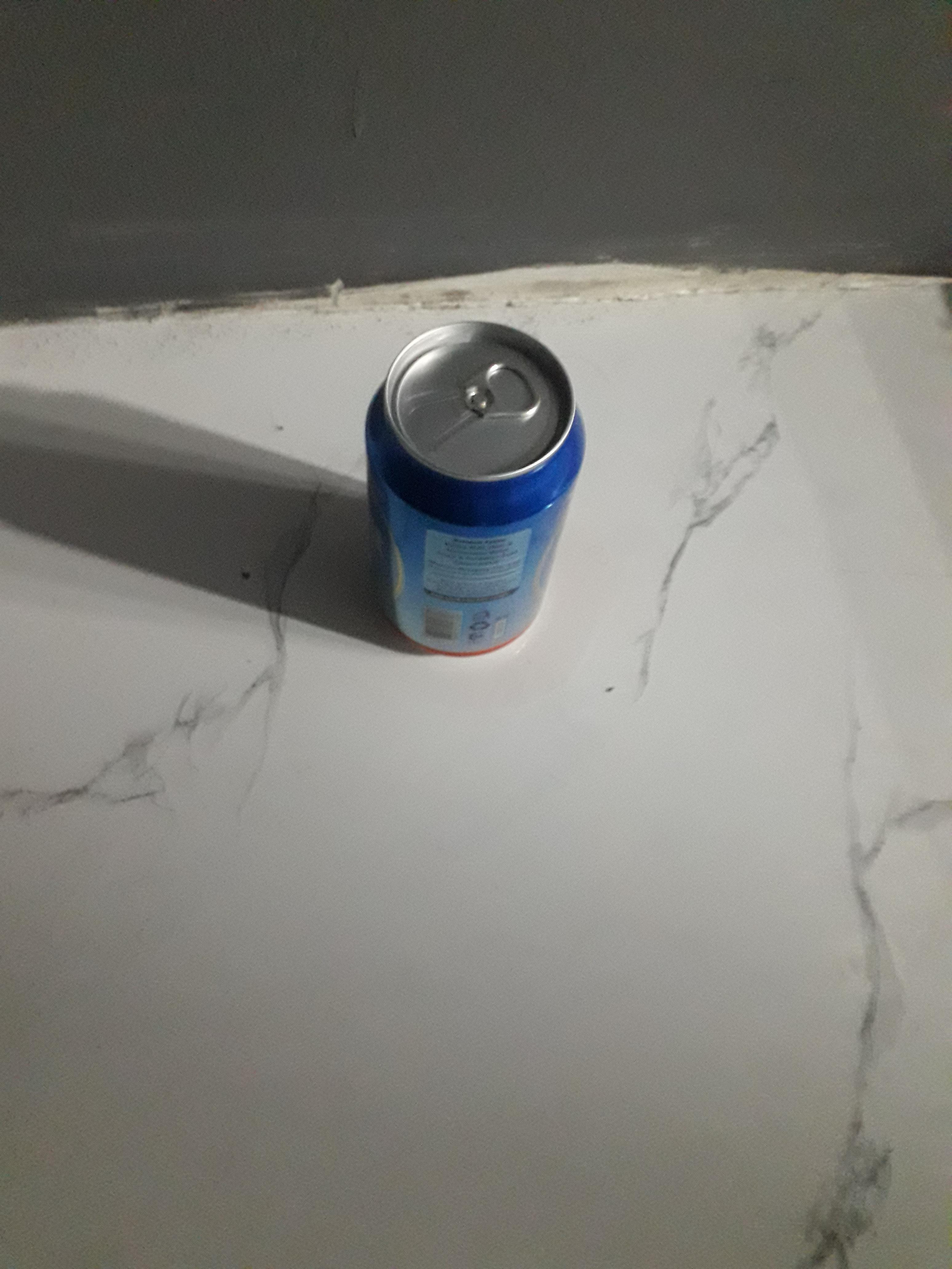tin can: (360, 310, 593, 662)
